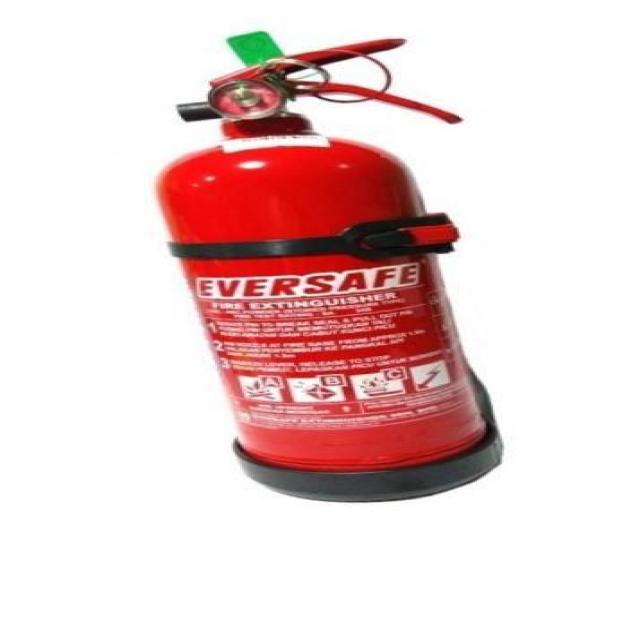fire_extinguisher: (142, 24, 512, 508)
